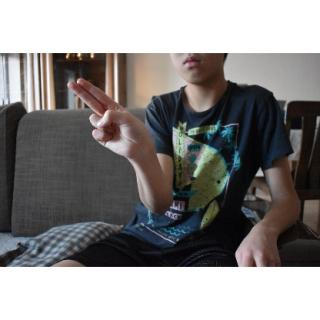TA: (65, 76, 154, 164)
